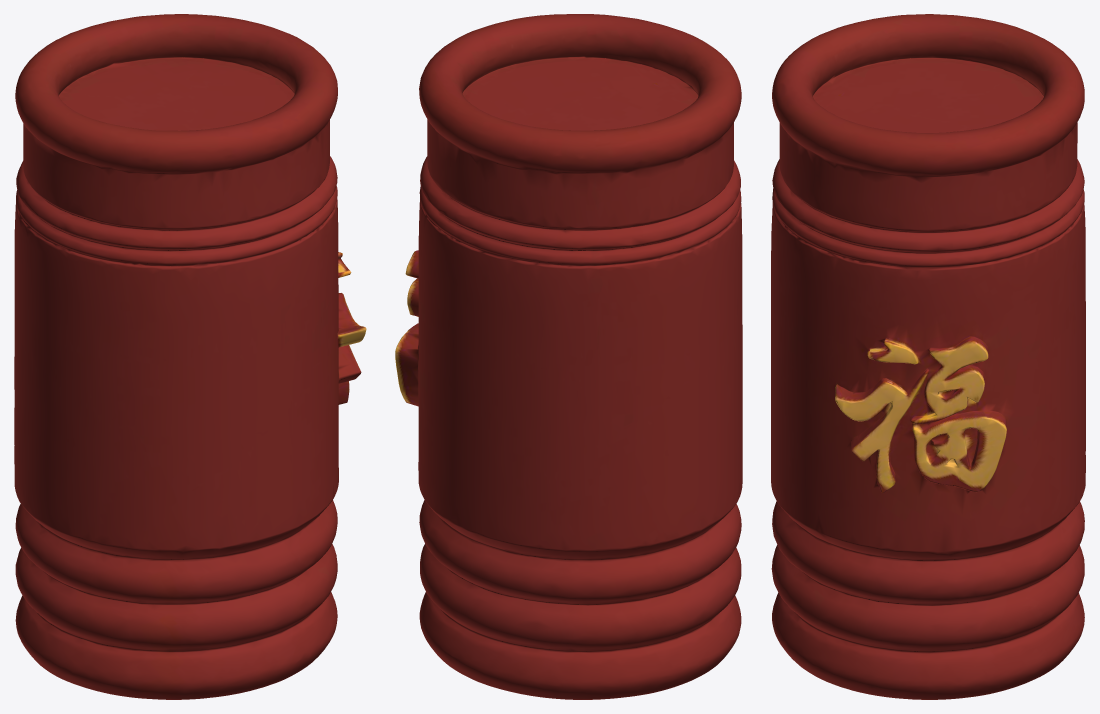
File: Container.glb
3 renders of one model, left to right at view 1: azimuth 30°, elevation 25°; view 2: azimuth 150°, elevation 25°; view 3: azimuth 270°, elevation 25°, orthographic.
Visible parts, largest first — view 1: tripo_node_e6d194fc-54e6-4e54-a7f7-171b992d4b4b; view 2: tripo_node_e6d194fc-54e6-4e54-a7f7-171b992d4b4b; view 3: tripo_node_e6d194fc-54e6-4e54-a7f7-171b992d4b4b.
Boxes of the visible parts, left/top/right/bottom form: tripo_node_e6d194fc-54e6-4e54-a7f7-171b992d4b4b: left=14, top=14, right=366, bottom=699; tripo_node_e6d194fc-54e6-4e54-a7f7-171b992d4b4b: left=395, top=14, right=742, bottom=699; tripo_node_e6d194fc-54e6-4e54-a7f7-171b992d4b4b: left=771, top=14, right=1085, bottom=699.
Bounding box in the file's own units: 0.3013 × 0.5615 × 0.2851.
1 material, 1 textured.
